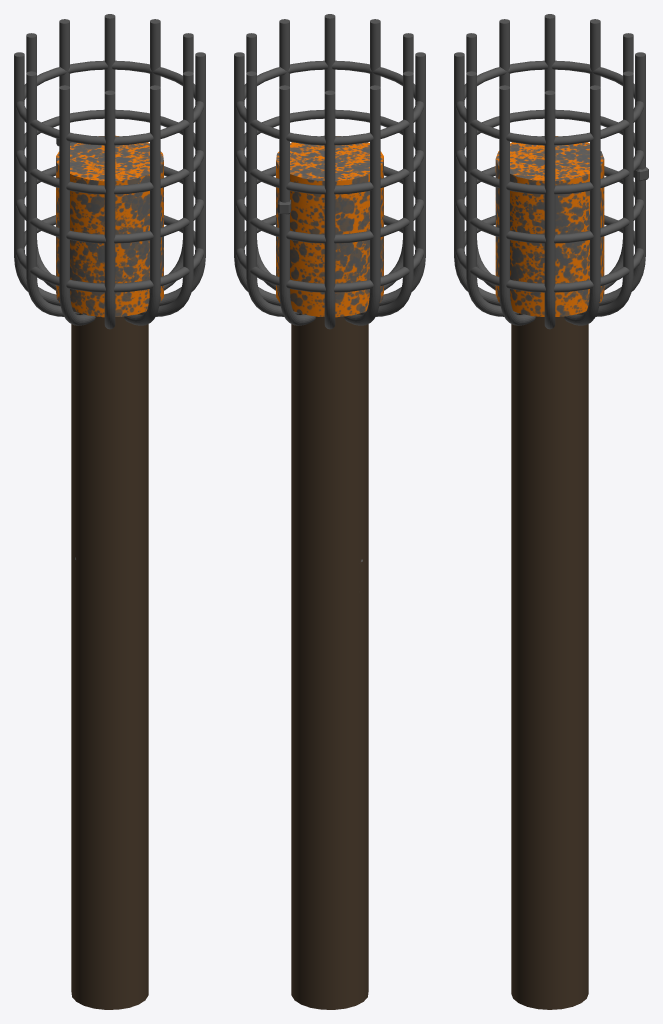
File: M_Torcia.fbx
The picture shows the model from 3 angles, left to right: view 1: azimuth 30°, elevation 25°; view 2: azimuth 150°, elevation 25°; view 3: azimuth 270°, elevation 25°; orthographic projection.
Visible parts, largest first — view 1: Torcia; view 2: Torcia; view 3: Torcia.
Boxes of the visible parts, box(x1,y1,x2,y2) form: Torcia: box(14, 14, 205, 1009); Torcia: box(234, 14, 425, 1009); Torcia: box(454, 14, 648, 1009).
Size of the model in its own units: 0.4954 by 2.67 by 0.5033.
